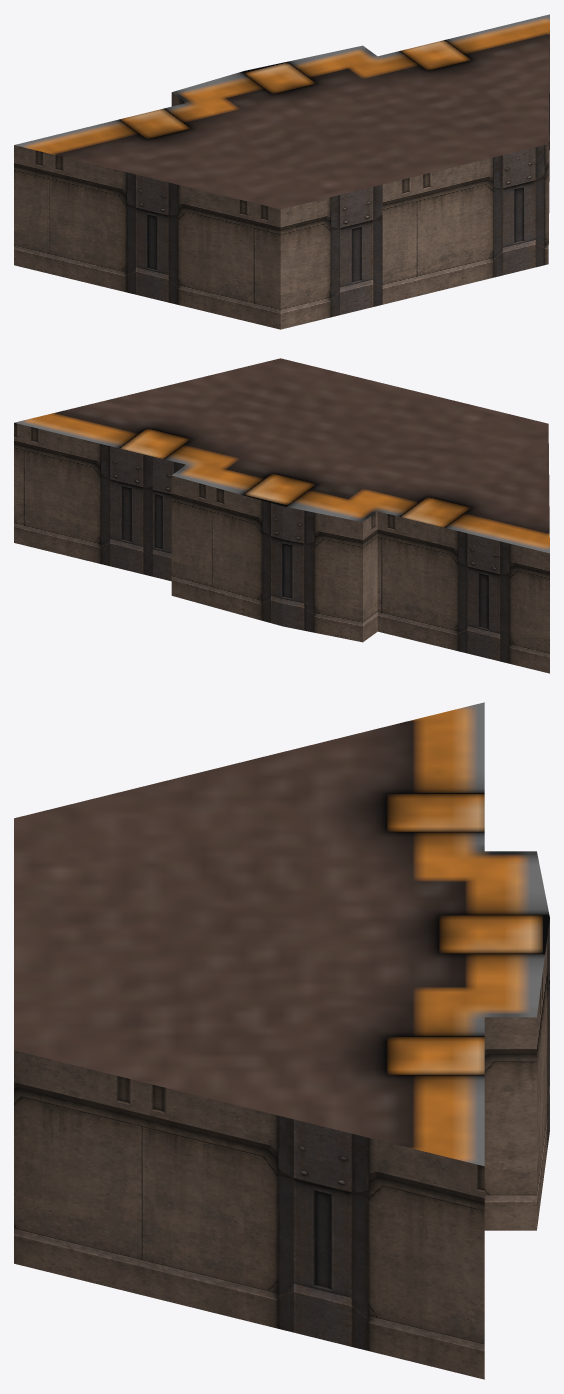
Rendered from heavy_roof28.glb.
3 views of the same model, one above another, from view 1: azimuth 30°, elevation 25°; view 2: azimuth 150°, elevation 25°; view 3: azimuth 270°, elevation 25° (orthographic). The views are drawn at different scales.
Visible parts, largest first — view 1: buildings/saxarba/heavy/heavy_roof28; view 2: buildings/saxarba/heavy/heavy_roof28; view 3: buildings/saxarba/heavy/heavy_roof28.
Boxes of the visible parts, x1,y1,x2,y2 form: buildings/saxarba/heavy/heavy_roof28: (14,14,549,329); buildings/saxarba/heavy/heavy_roof28: (14,358,549,673); buildings/saxarba/heavy/heavy_roof28: (14,702,549,1379).
Bounding box in the file's own units: 84 × 18 × 41.
